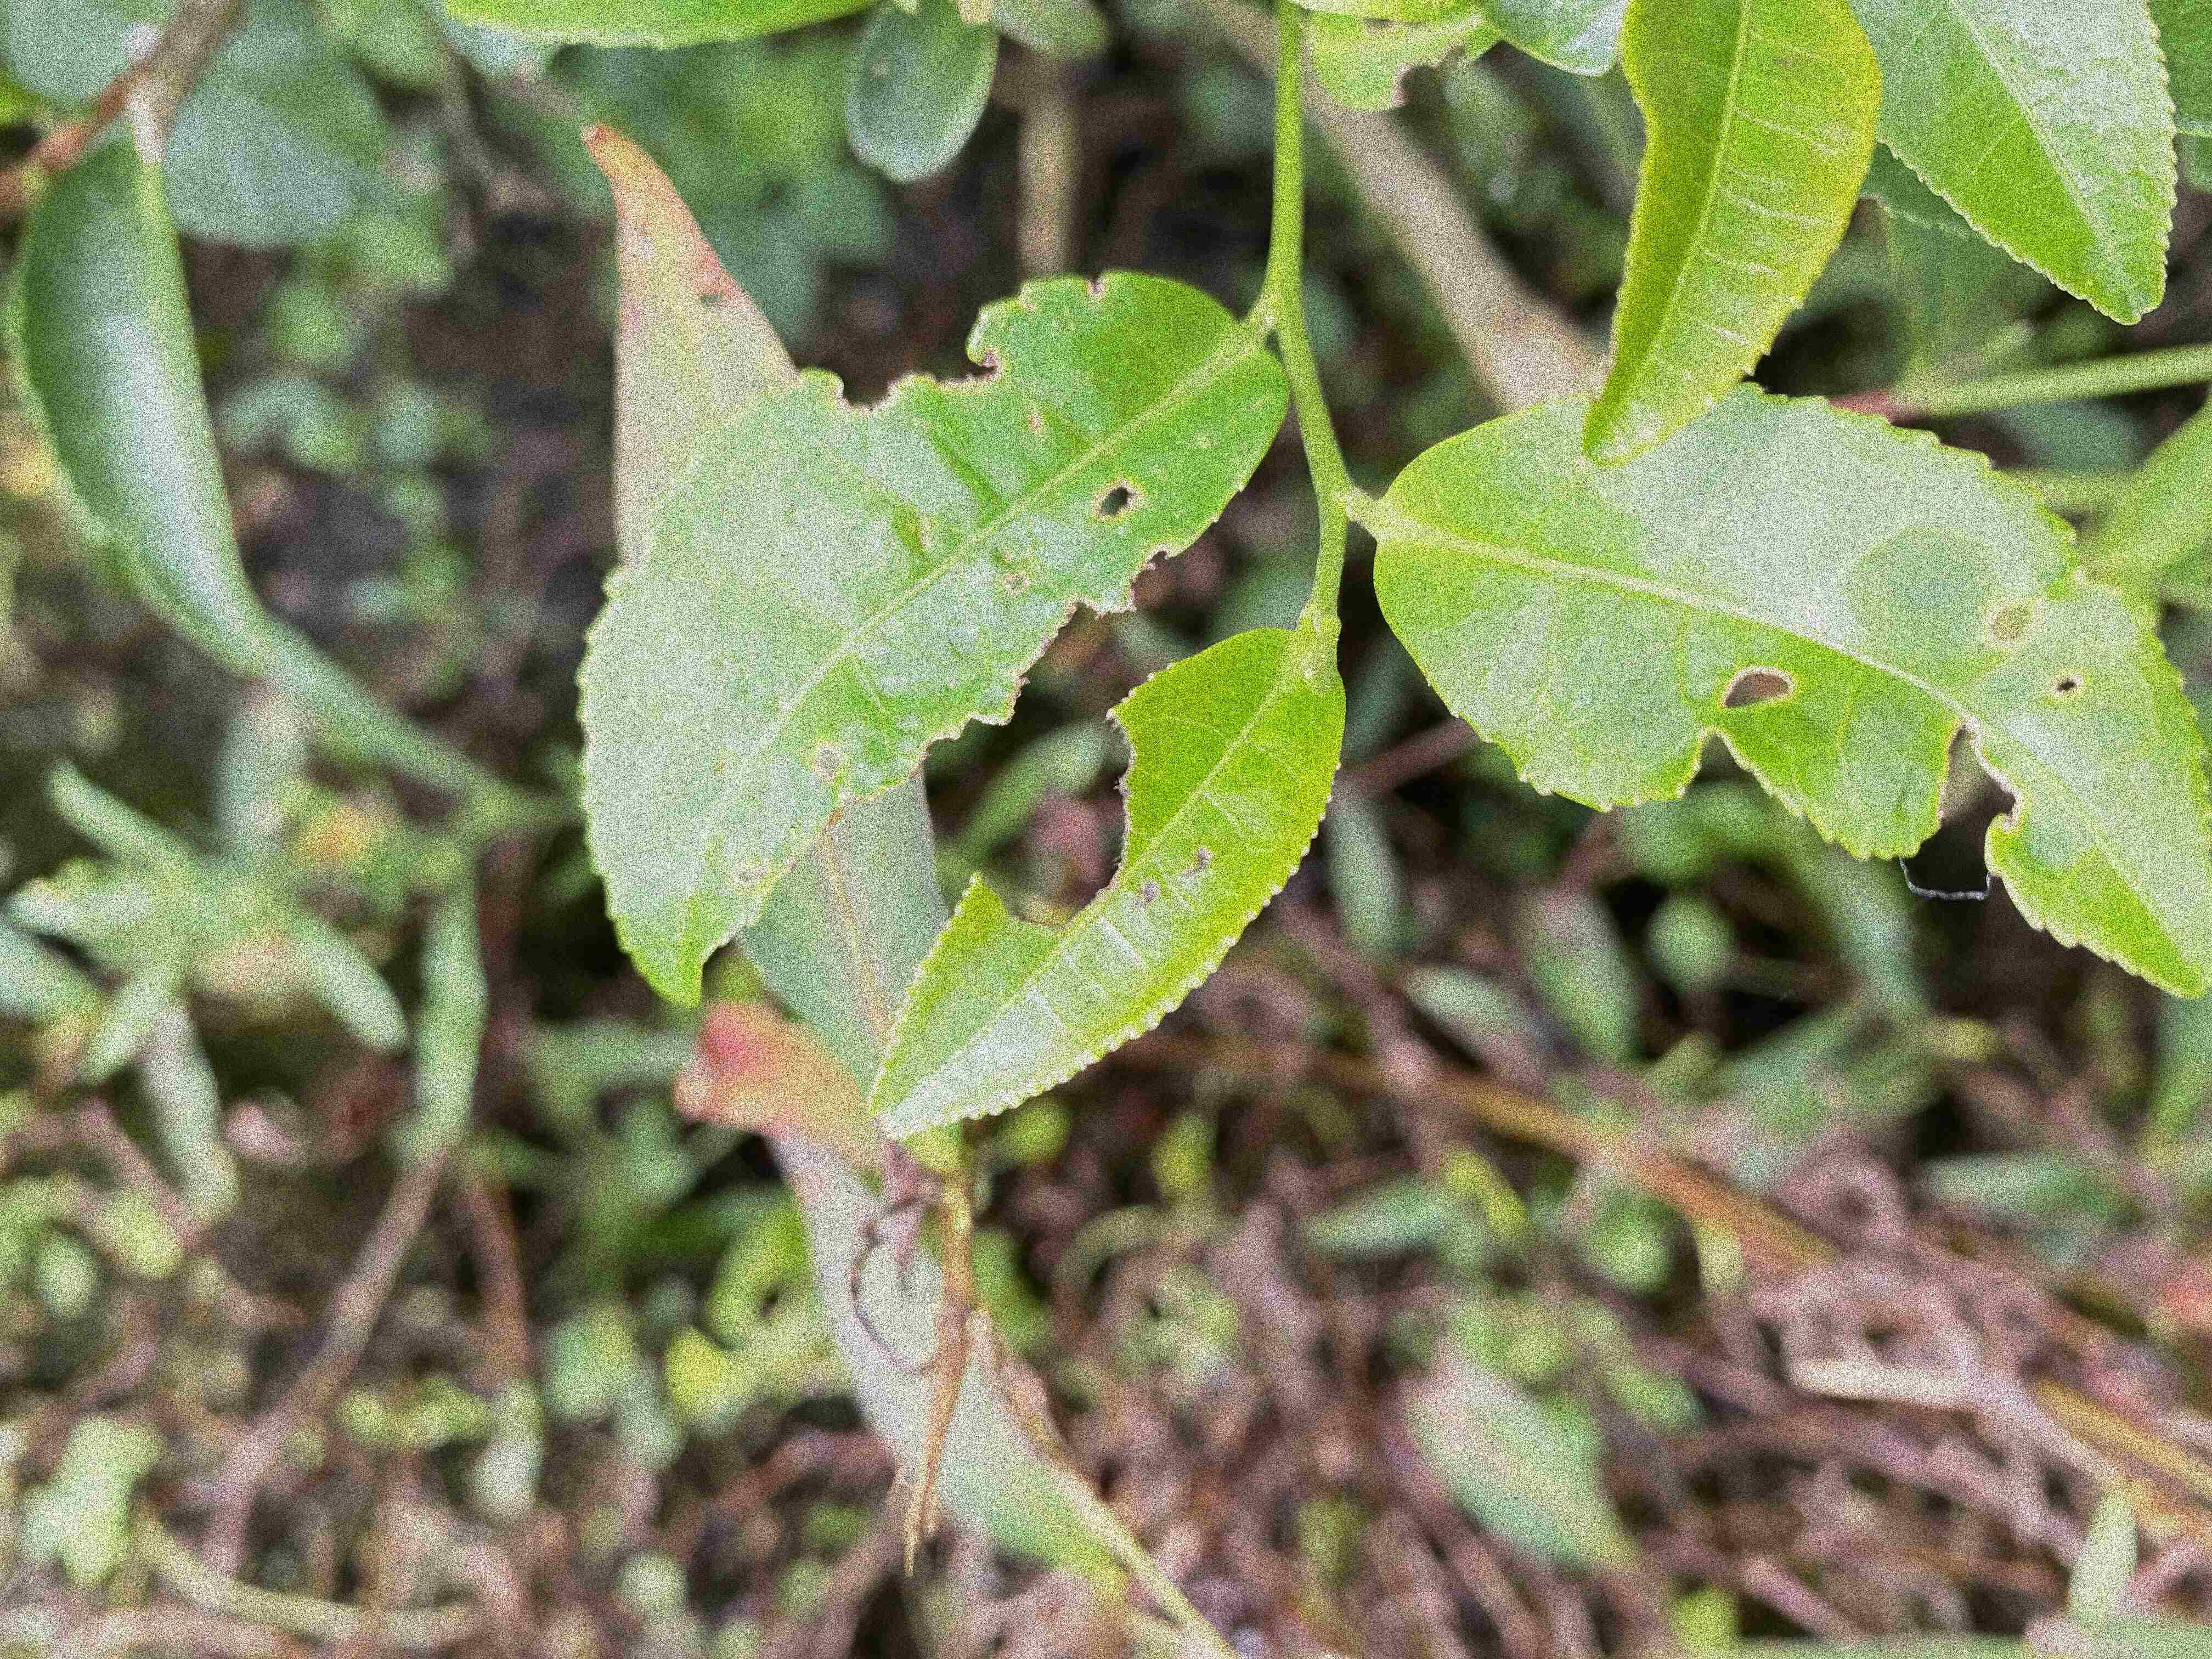chihuo_high: (571, 267, 1291, 1012), (1371, 371, 2210, 1000)
chihuo_low: (866, 620, 1350, 1140)
healthy: (1578, 5, 1881, 469), (1876, 2, 2181, 324)
